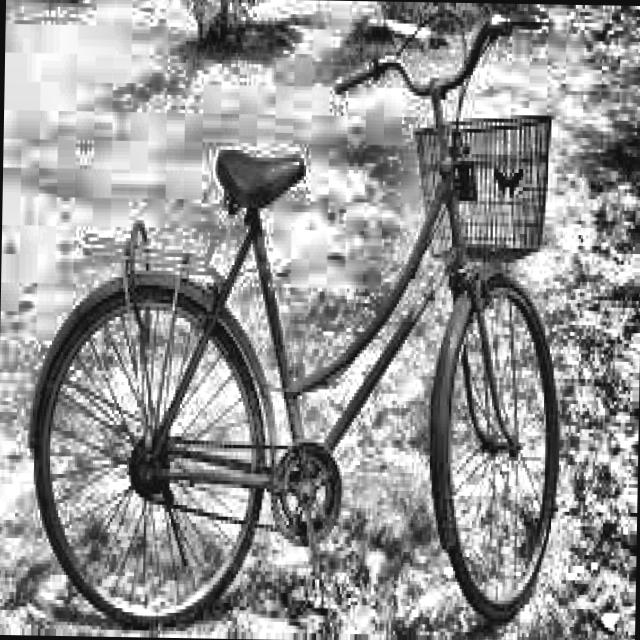bicycle: (20, 5, 573, 640)
